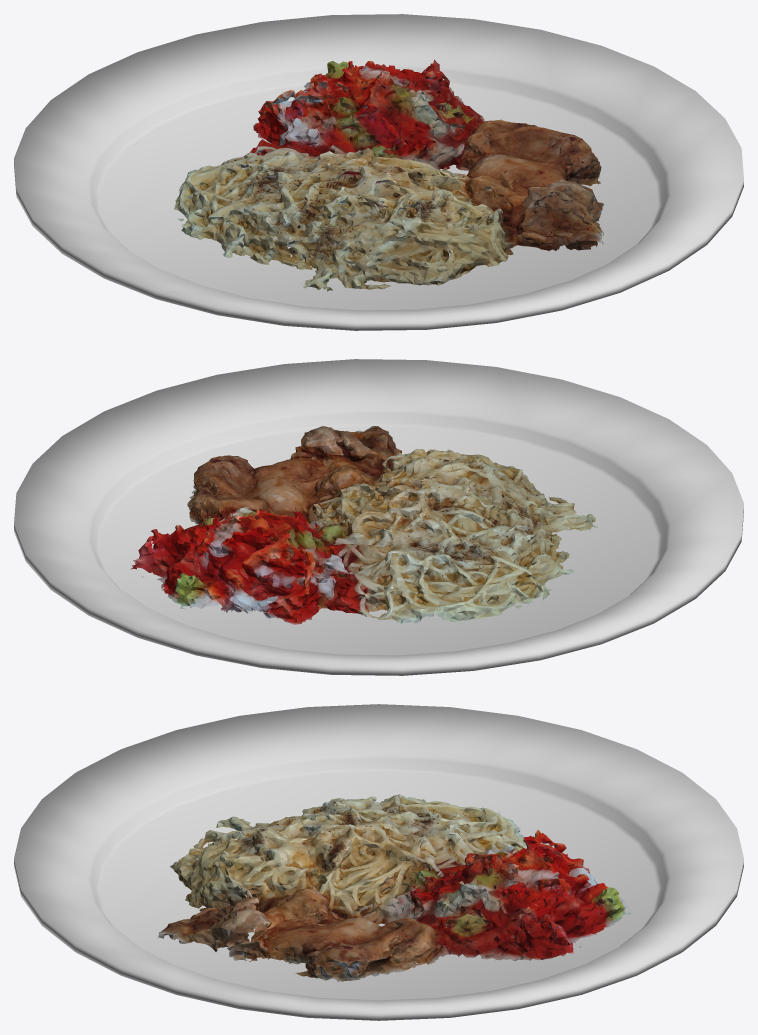
The model's file is makarna.glb.
The picture shows the model from 3 angles, top to bottom: view 1: azimuth 30°, elevation 25°; view 2: azimuth 150°, elevation 25°; view 3: azimuth 270°, elevation 25°; orthographic projection.
Visible parts, largest first — view 1: Cylinder_Cylinder.001_2, Makarna2_3; view 2: Cylinder_Cylinder.001_2, Makarna2_3; view 3: Cylinder_Cylinder.001_2, Makarna2_3.
Part boxes in pixels (bbox=[...]): Cylinder_Cylinder.001_2: bbox=[14, 14, 743, 330]; Makarna2_3: bbox=[174, 59, 603, 291]; Cylinder_Cylinder.001_2: bbox=[14, 359, 743, 675]; Makarna2_3: bbox=[130, 426, 597, 624]; Cylinder_Cylinder.001_2: bbox=[14, 704, 743, 1020]; Makarna2_3: bbox=[158, 794, 631, 981].
Size of the model in its own units: 0.4234 by 0.0477 by 0.4234.
Materials: 2 (1 with a texture image).
